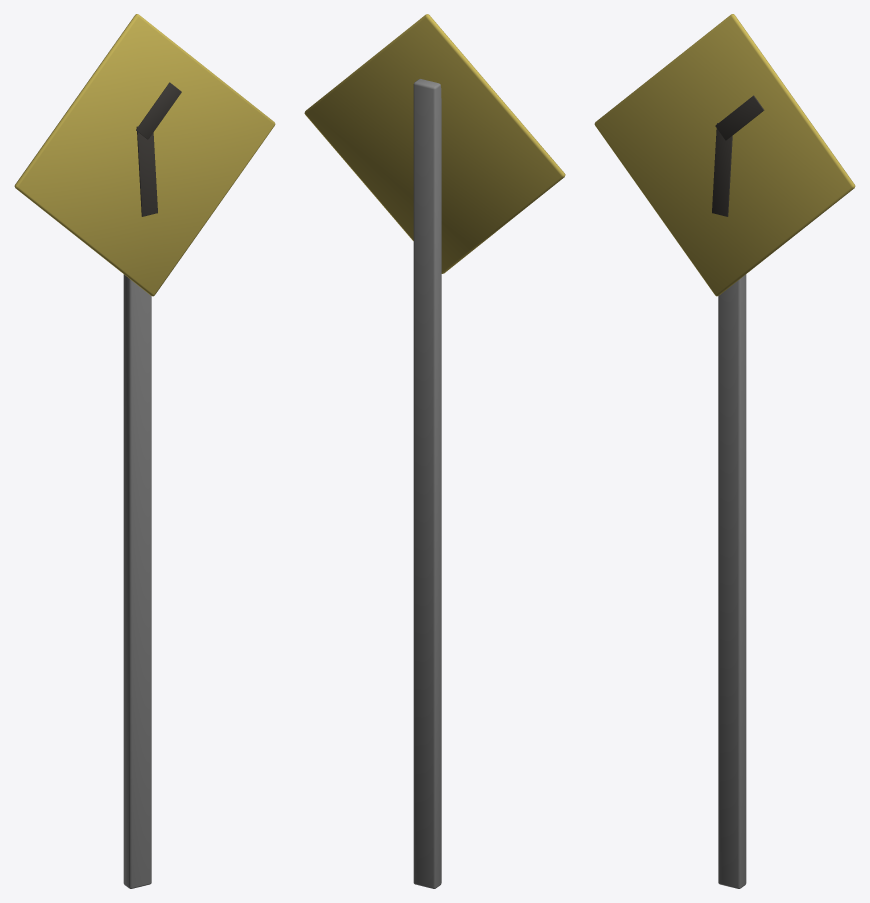
File: curve_sign.glb
The picture shows the model from 3 angles, left to right: view 1: azimuth 30°, elevation 25°; view 2: azimuth 150°, elevation 25°; view 3: azimuth 330°, elevation 25°; orthographic projection.
Parts seen in each view (by area): view 1: g_sign_yellow, g_metal, g_sign_black; view 2: g_sign_yellow, g_metal; view 3: g_sign_yellow, g_metal, g_sign_black.
Part boxes in pixels (x1,y1,x2,y2): g_sign_yellow: (14,14,275,296); g_metal: (123,274,151,888); g_sign_black: (136,82,181,216); g_sign_yellow: (304,14,565,273); g_metal: (413,79,441,888); g_sign_yellow: (594,14,855,296); g_metal: (718,274,746,888); g_sign_black: (712,95,764,216).
Bounding box in the file's own units: 0.8147 × 2.61 × 0.1093.
